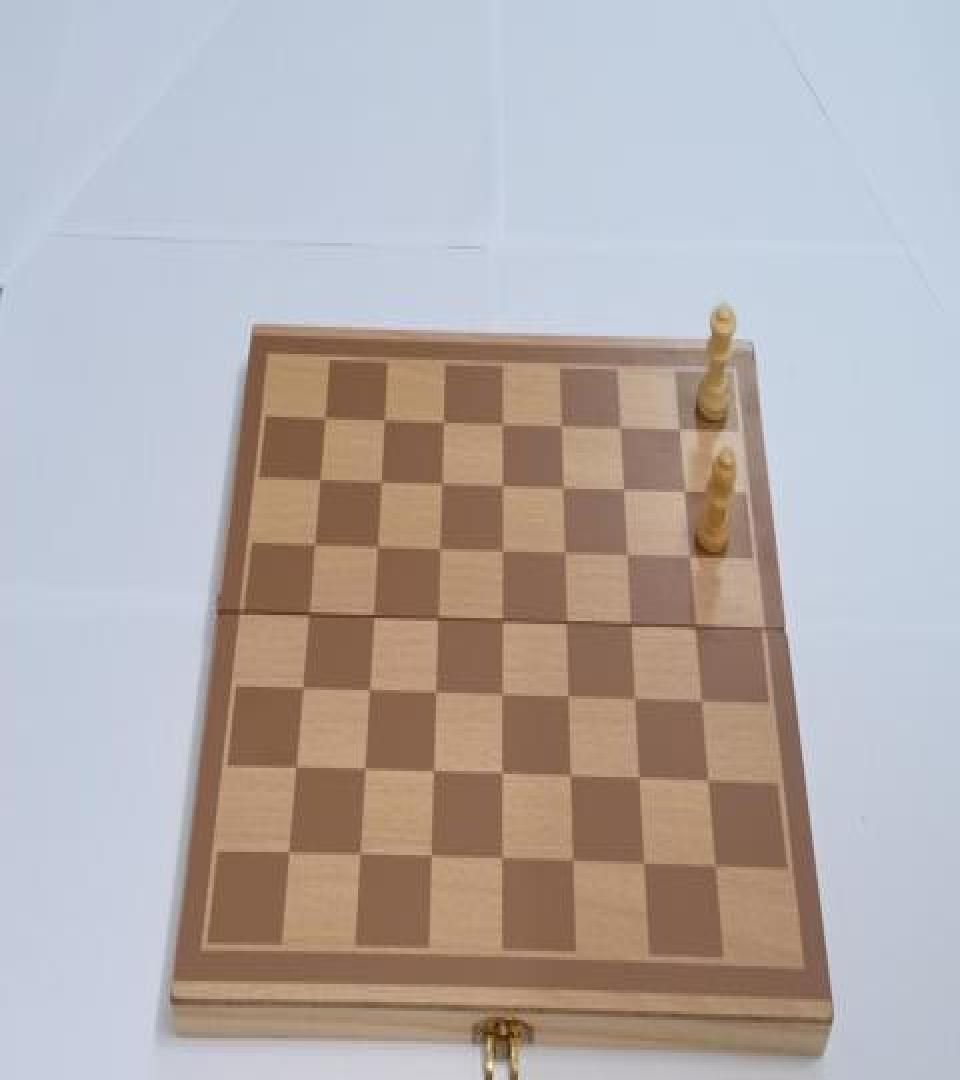xcorner: (436, 412, 454, 440), (555, 478, 573, 506), (612, 418, 630, 446), (319, 408, 337, 435), (313, 470, 331, 497), (308, 534, 326, 561), (302, 603, 320, 630), (296, 676, 314, 703), (289, 756, 307, 783), (374, 471, 392, 498), (370, 537, 388, 564), (366, 606, 384, 633), (358, 759, 376, 786), (353, 844, 371, 871), (434, 474, 452, 501), (432, 538, 450, 565), (428, 683, 446, 710), (426, 762, 444, 789), (494, 414, 512, 441), (495, 610, 513, 637), (495, 765, 513, 792), (496, 851, 514, 878), (553, 417, 571, 444), (557, 543, 575, 570), (562, 687, 580, 714), (564, 768, 582, 795), (615, 480, 633, 507), (620, 546, 638, 573), (624, 615, 642, 642), (628, 690, 646, 717), (633, 771, 651, 798), (639, 857, 657, 884), (671, 420, 689, 447), (676, 483, 694, 510), (688, 618, 706, 645), (695, 693, 713, 720), (702, 772, 720, 799), (282, 842, 300, 868), (377, 410, 395, 436), (362, 680, 380, 706), (430, 608, 448, 634), (424, 848, 442, 874), (494, 476, 512, 502), (495, 542, 513, 568), (495, 686, 513, 712), (559, 614, 577, 640), (567, 854, 585, 880), (682, 548, 700, 574), (710, 860, 728, 886)
